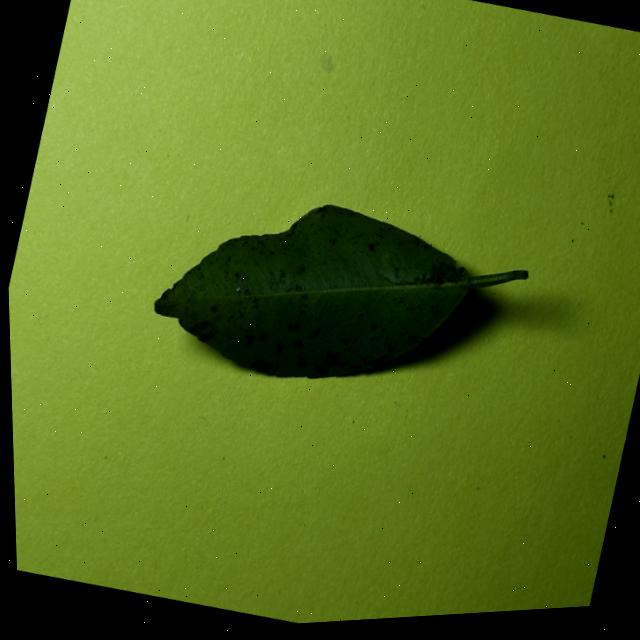sooty_mold: (154, 205, 526, 378)
